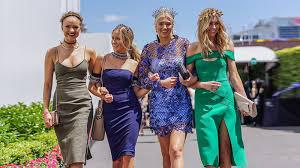Person: (190, 7, 248, 168), (42, 11, 96, 168), (141, 7, 191, 168), (94, 23, 141, 168)
